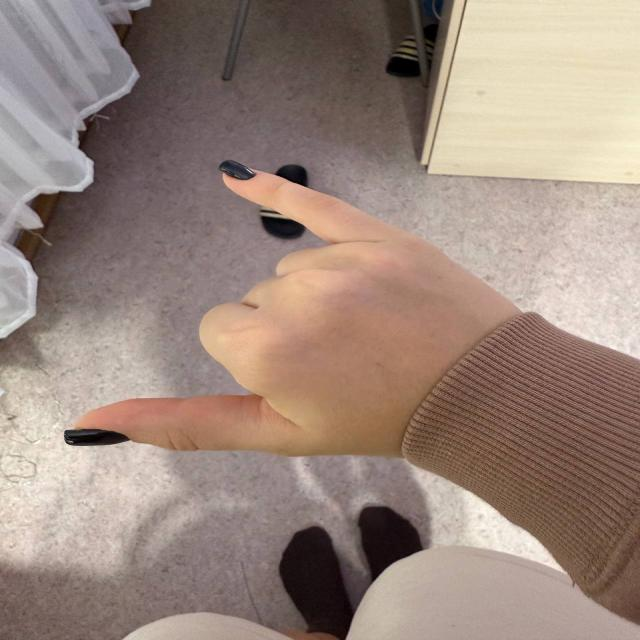u: (62, 158, 556, 468)
